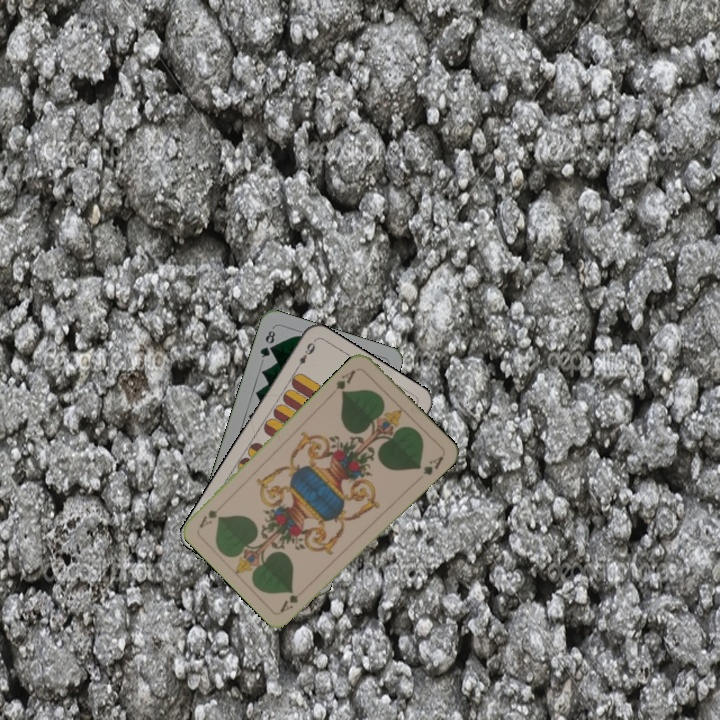E9: (291, 338, 318, 373)
G8: (256, 326, 278, 360)
GA: (331, 366, 358, 397), (276, 590, 301, 615)
